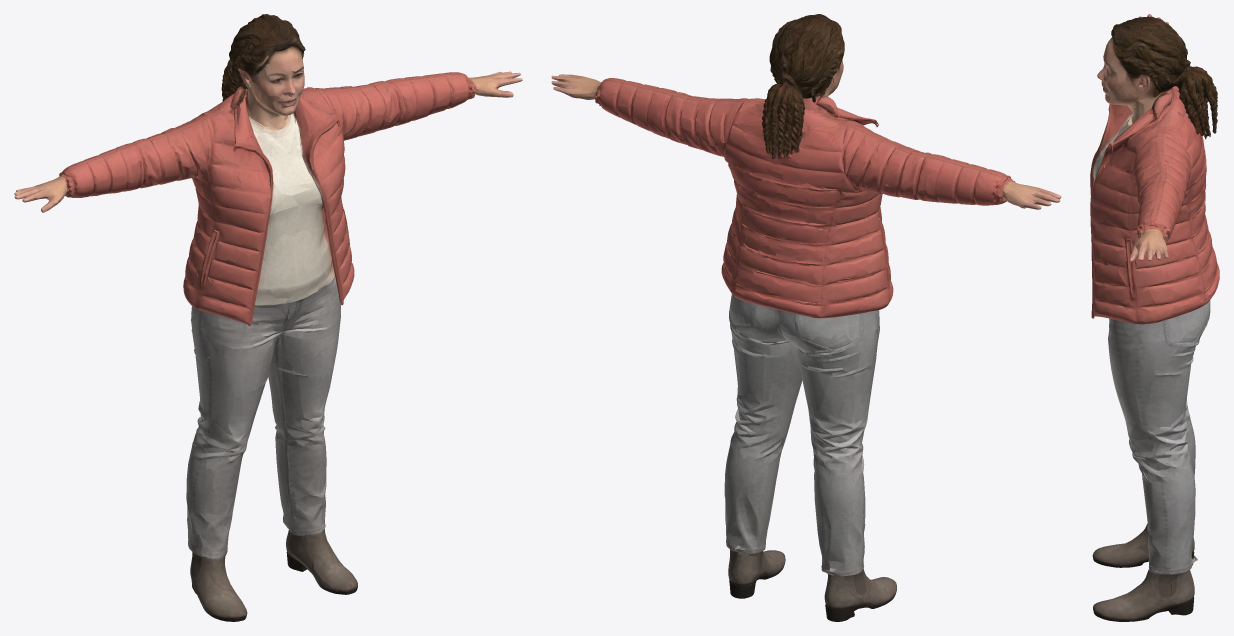
Rendered from character_n07_optimized.glb.
3 views of the same model, side by side, from view 1: azimuth 30°, elevation 25°; view 2: azimuth 150°, elevation 25°; view 3: azimuth 270°, elevation 25° (orthographic).
Parts seen in each view (by area): view 1: output_unwrapped; view 2: output_unwrapped; view 3: output_unwrapped.
Part boxes in pixels (<box>): output_unwrapped: <box>14,14,522,621</box>; output_unwrapped: <box>551,14,1061,621</box>; output_unwrapped: <box>1090,14,1219,621</box>.
Bounding box in the file's own units: 1.76 × 1.9 × 0.3929.
Materials: 1 (1 with a texture image).
